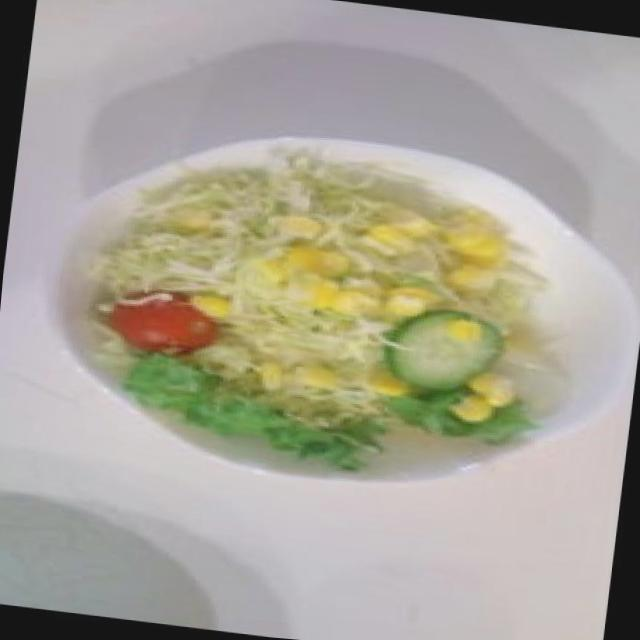Green Salad: (95, 156, 574, 474)
